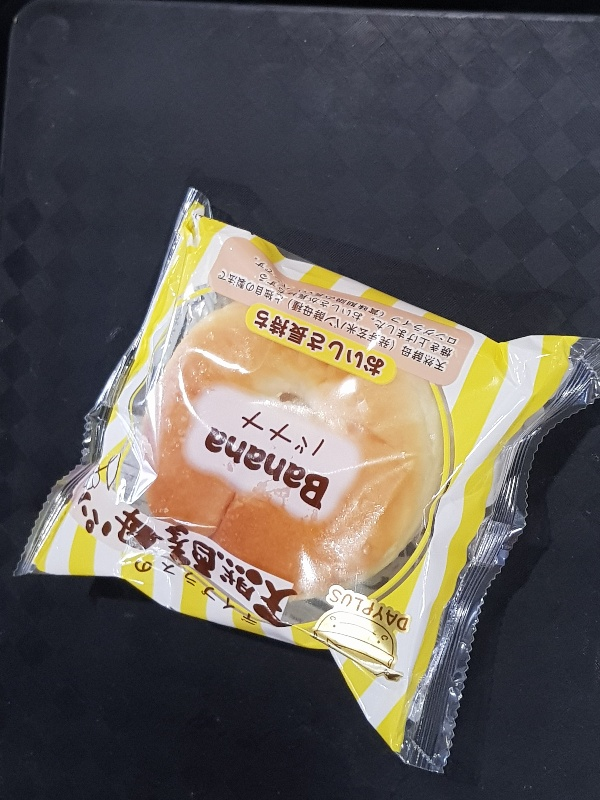Dayplus Banana: (16, 187, 600, 776)
